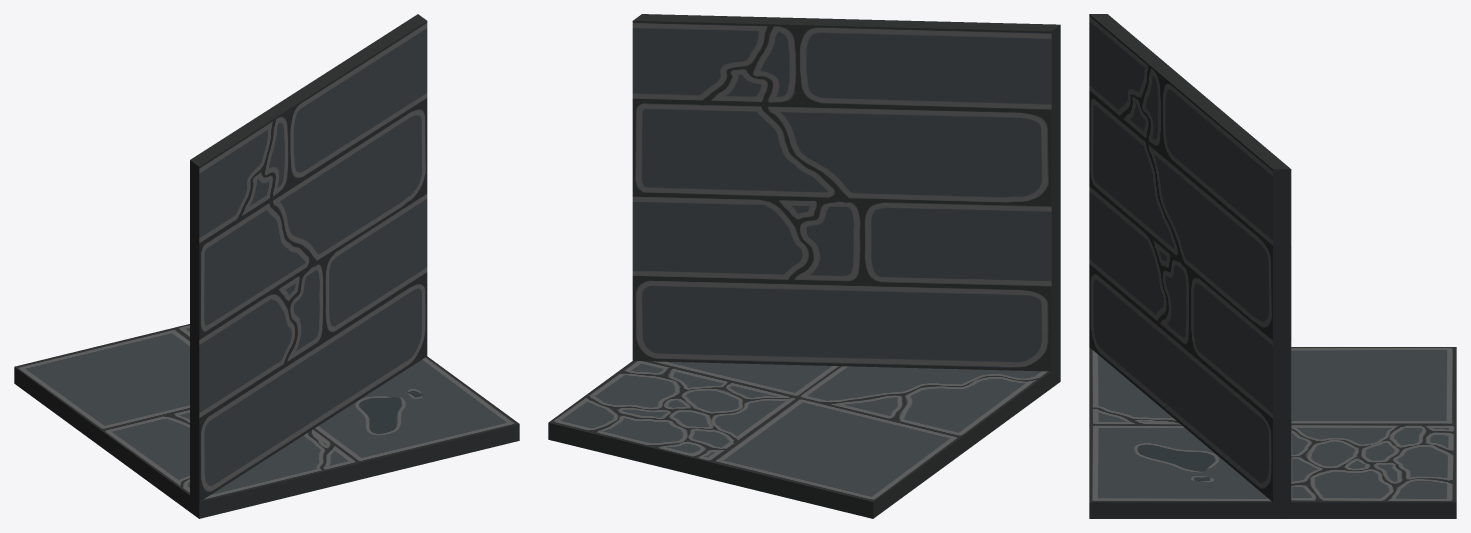
File: Opening-LCURVE-SSE_v1.2.fbx
3 views of the same model, side by side, from view 1: azimuth 30°, elevation 25°; view 2: azimuth 150°, elevation 25°; view 3: azimuth 270°, elevation 25° (orthographic). The views are drawn at different scales.
Visible parts, largest first — view 1: Wall-Curved-SSE; view 2: Wall-Curved-SSE; view 3: Wall-Curved-SSE.
Boxes of the visible parts, x1,y1,x2,y2 form: Wall-Curved-SSE: [14, 14, 519, 518]; Wall-Curved-SSE: [548, 14, 1060, 518]; Wall-Curved-SSE: [1089, 14, 1456, 518].
Size of the model in its own units: 100 by 100 by 105.
